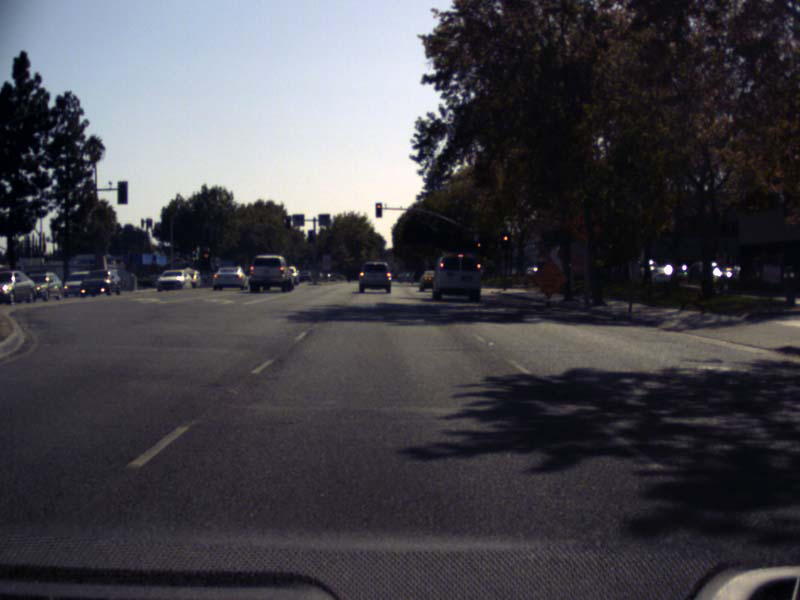Red: (203, 251, 210, 266), (375, 202, 381, 217)
Yellow: (476, 238, 484, 256), (501, 234, 510, 249)
